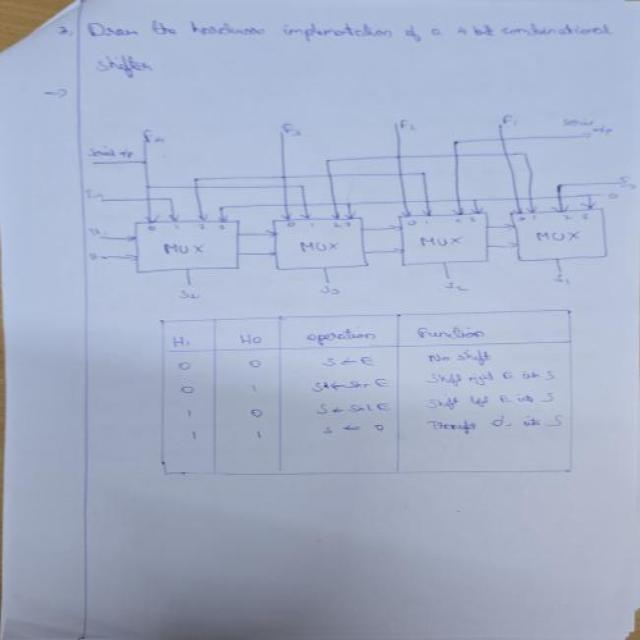Figure Detection - v3 Dataset Version2: (79, 99, 640, 307)
